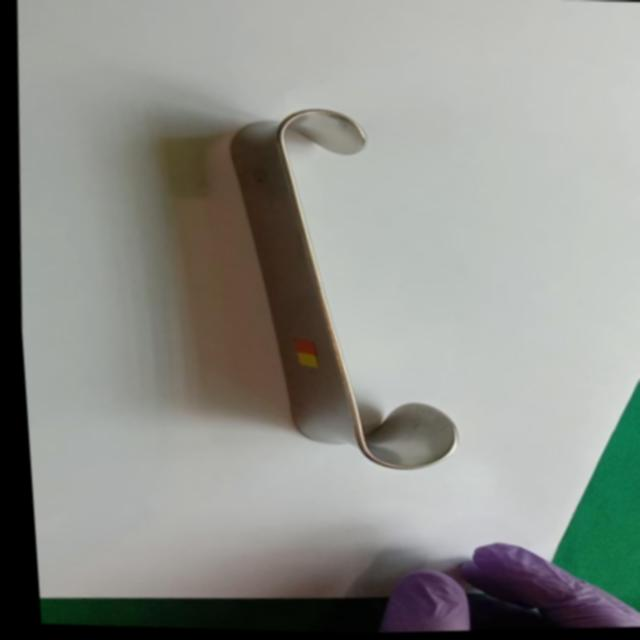CheekRetractor: (208, 103, 478, 485)
